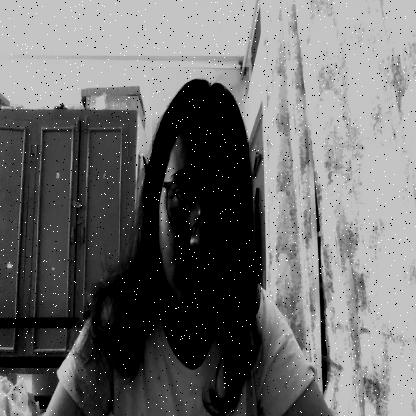Normal: (152, 67, 249, 322)
